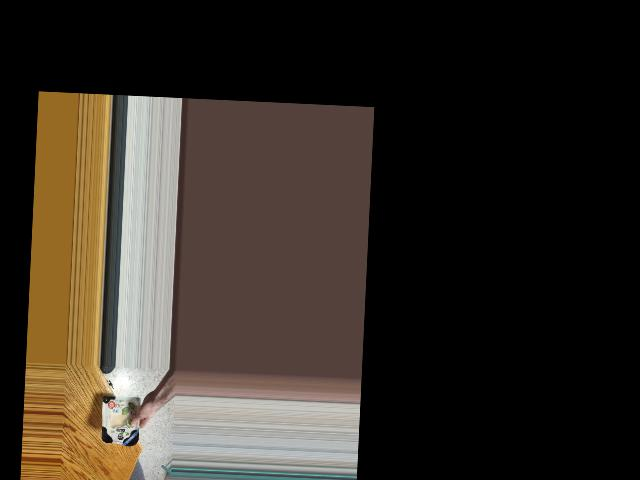cheese: (101, 392, 143, 446)
